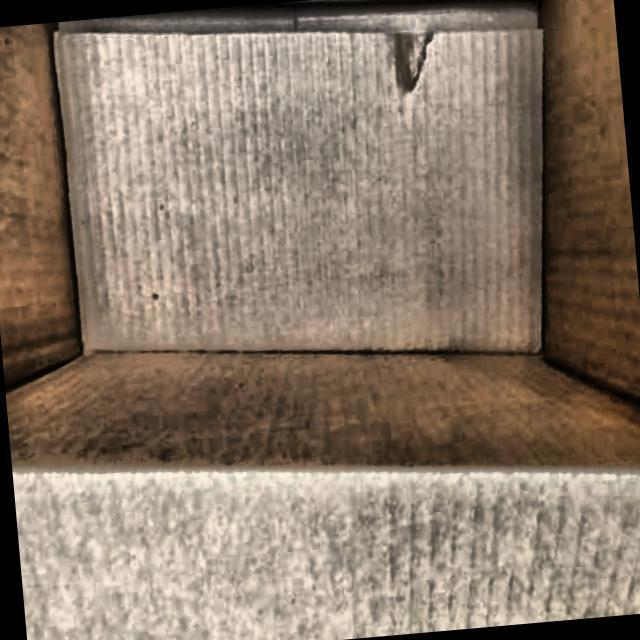cardboard: (49, 0, 576, 398)
